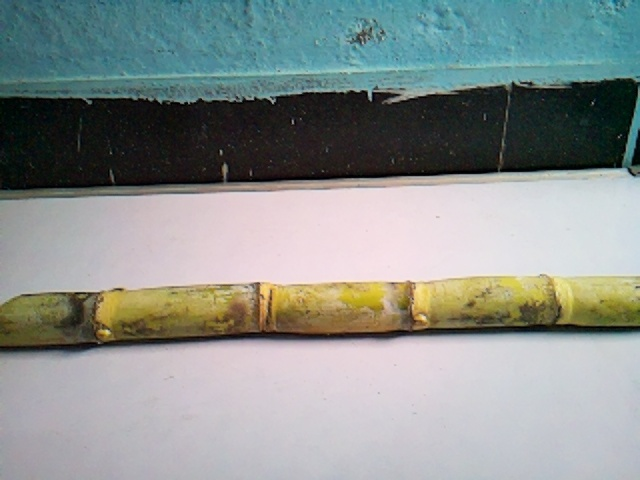Good Sugarcane: (0, 276, 640, 348)
Node: (78, 283, 128, 351), (236, 276, 290, 338), (389, 275, 440, 336), (528, 270, 572, 330)
